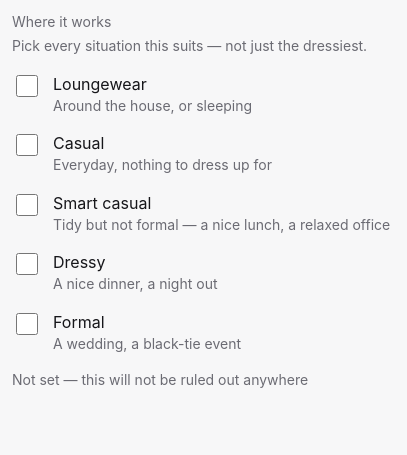
Test: the dressiness multi-select › clears everything, and offers that only when there is something to clear
Expected: the button "Clear all" is not shown
Click the checkbox labelled "Casual". click: (27, 145)
box: [16,134,38,156]
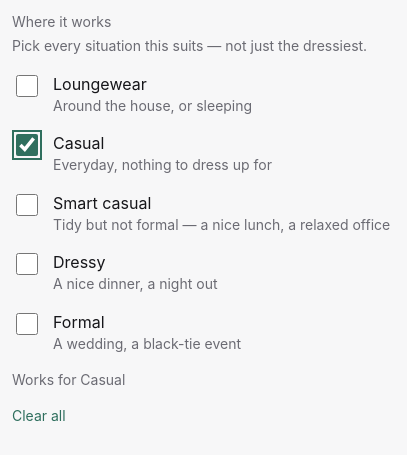
Click the checkbox labelled "Formal". click: (27, 324)
box: [16,312,38,334]
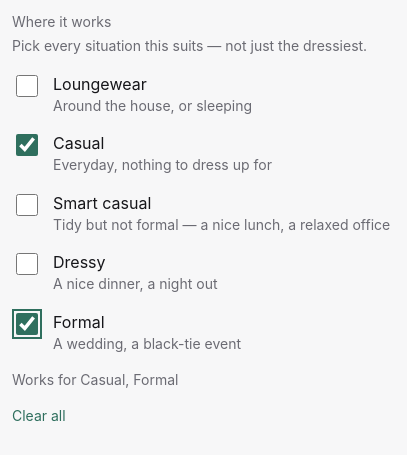
Click the button "Clear all". click: (39, 416)
box: [12,394,66,438]
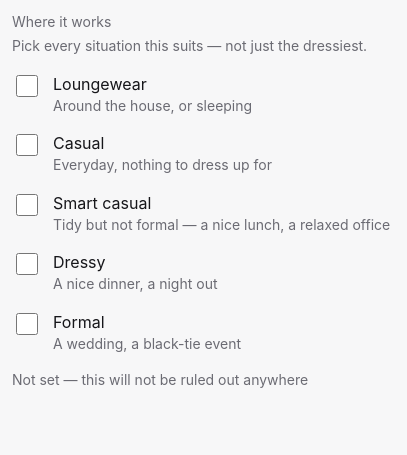
Result: the checkbox labelled "Casual Everyday, nothing to dress up for" is not checked at [16,134,38,156]
Result: the checkbox labelled "Formal A wedding, a black-tie event" is not checked at [16,312,38,334]
Result: the text "Not set — this will not be ruled out anywhere" is shown at [12,371,308,388]
